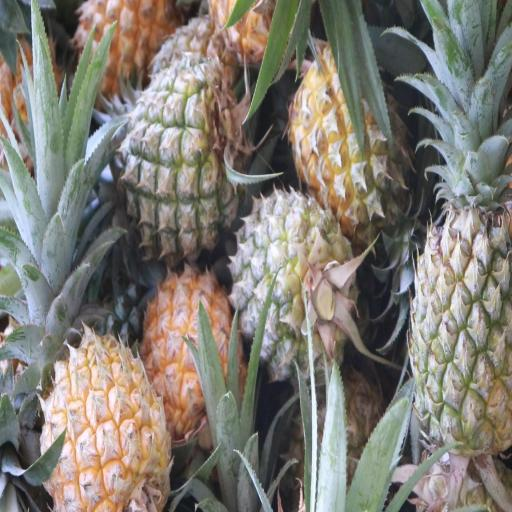------------------------------: (287, 61, 409, 249), (119, 74, 244, 250), (234, 197, 356, 376)
Pineapple - v8 v1: (45, 344, 172, 511), (146, 273, 243, 436), (78, 0, 173, 101)
